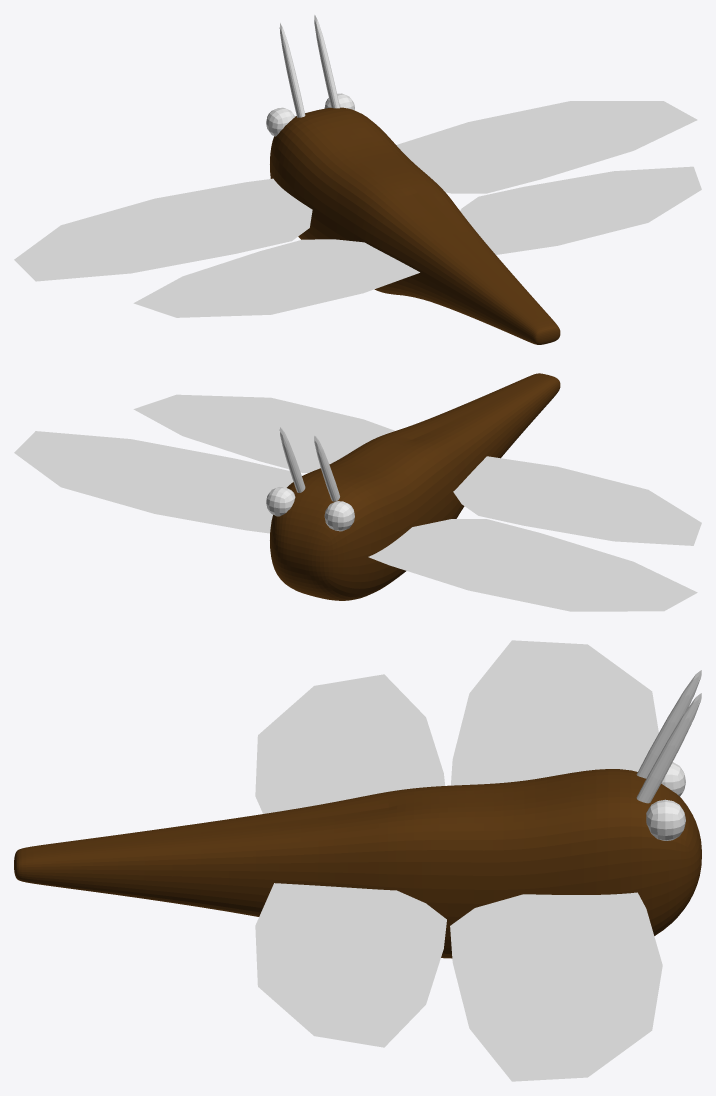
Rendered from dragonfly_model.fbx.
3 renders of one model, top to bottom at view 1: azimuth 30°, elevation 25°; view 2: azimuth 150°, elevation 25°; view 3: azimuth 270°, elevation 25°, orthographic. The views are drawn at different scales.
Parts seen in each view (by area): view 1: Plane.001, Cube, Plane.002, Cube.002, Cube.001; view 2: Plane.001, Cube, Plane.002, Cube.001, Cube.002; view 3: Cube, Plane.001, Plane.002, Cube.002, Cube.001.
Boxes of the visible parts, x1=… form: Plane.001: x1=14, y1=101, x2=697, y2=281; Cube: x1=270, y1=107, x2=560, y2=344; Plane.002: x1=133, y1=166, x2=701, y2=317; Cube.002: x1=279, y1=15, x2=339, y2=117; Cube.001: x1=266, y1=93, x2=354, y2=136; Plane.001: x1=14, y1=431, x2=697, y2=611; Cube: x1=270, y1=373, x2=560, y2=600; Plane.002: x1=133, y1=394, x2=701, y2=545; Cube.001: x1=266, y1=487, x2=354, y2=531; Cube.002: x1=279, y1=427, x2=339, y2=501; Cube: x1=14, y1=769, x2=701, y2=958; Plane.001: x1=450, y1=640, x2=662, y2=1081; Plane.002: x1=255, y1=674, x2=446, y2=1047; Cube.002: x1=636, y1=670, x2=701, y2=803; Cube.001: x1=646, y1=762, x2=685, y2=840.
Size of the model in its own units: 1006 by 281 by 663.
